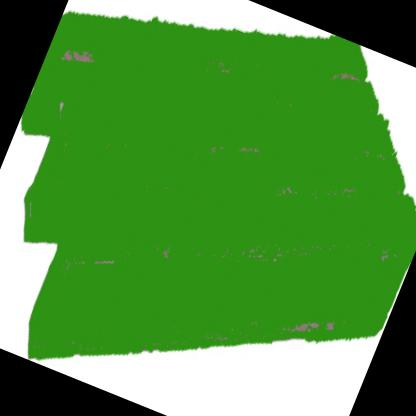BoxFace: (15, 2, 416, 361)
